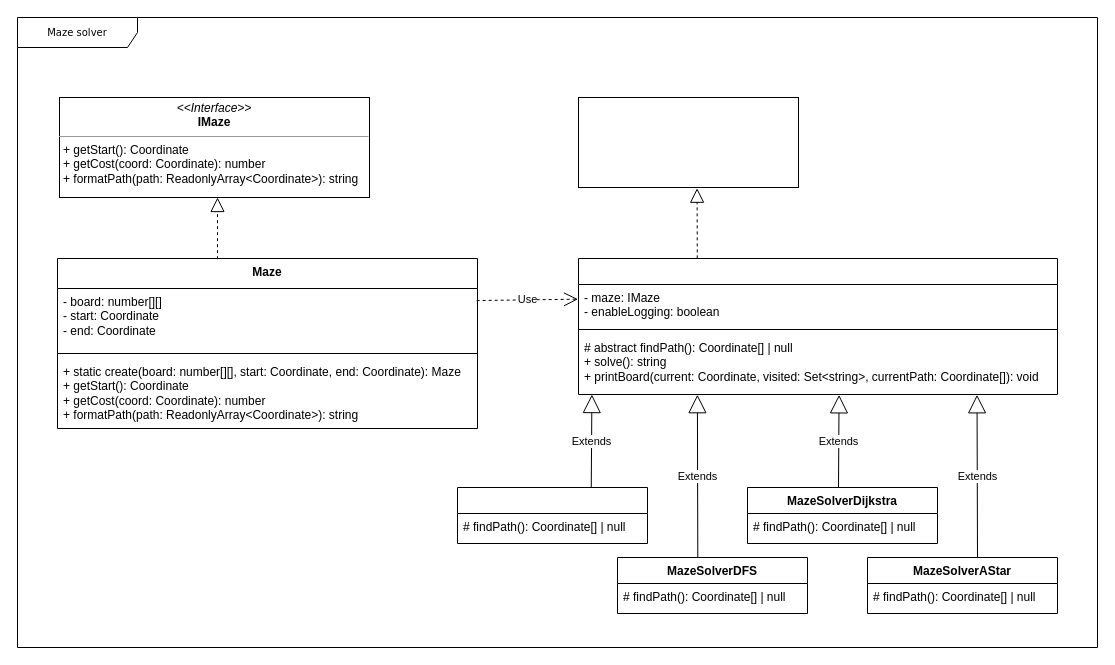
This 1115x665 diagram has some shape labels left out. Each missing label, with the box of its shape:
<<Interface>> IMazeSolver + solve(): string + solveAndFormat(): FormattedResult: (578, 96, 798, 188)
MazeSolver: (578, 258, 1058, 394)
MazeSolverBFS: (456, 486, 648, 544)
